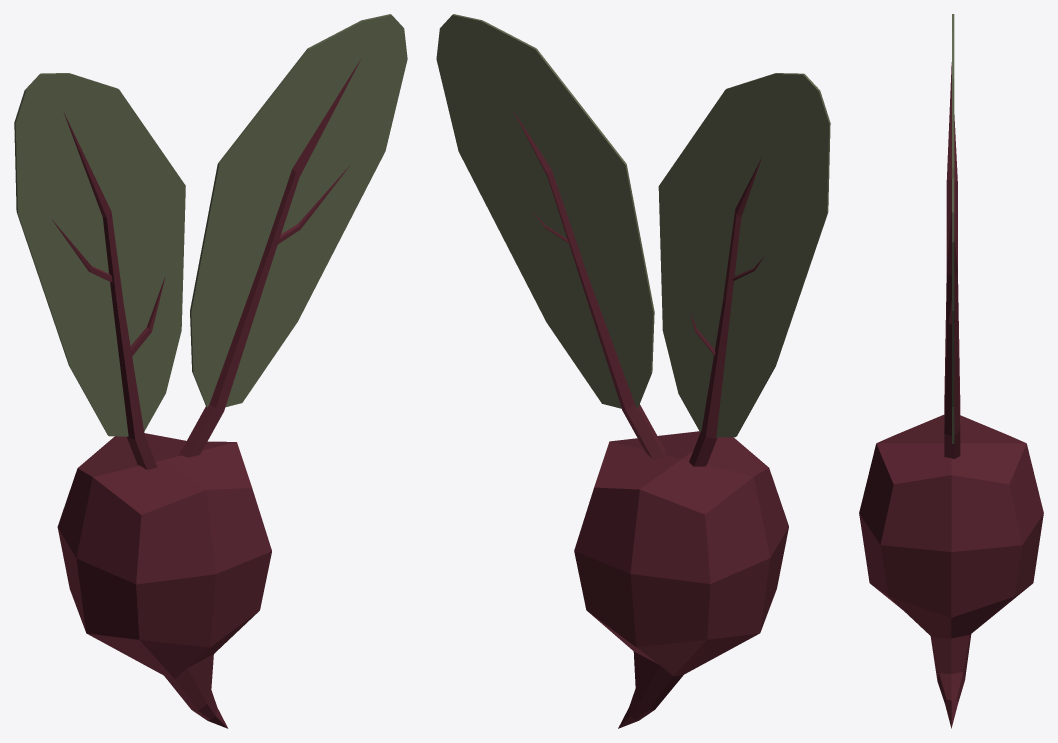
The model's file is beet_3.glb.
The picture shows the model from 3 angles, left to right: view 1: azimuth 30°, elevation 25°; view 2: azimuth 150°, elevation 25°; view 3: azimuth 270°, elevation 25°; orthographic projection. The views are drawn at different scales.
Parts seen in each view (by area): view 1: DarkGreen, DarkRed; view 2: DarkGreen, DarkRed; view 3: DarkRed, DarkGreen.
Part boxes in pixels (x1,y1,x2,y2): DarkGreen: (14, 14, 407, 436); DarkRed: (52, 58, 361, 728); DarkGreen: (436, 14, 830, 437); DarkRed: (513, 111, 788, 728); DarkRed: (859, 62, 1043, 728); DarkGreen: (952, 14, 954, 443).
Size of the model in its own units: 0.5093 by 0.8688 by 0.23.
